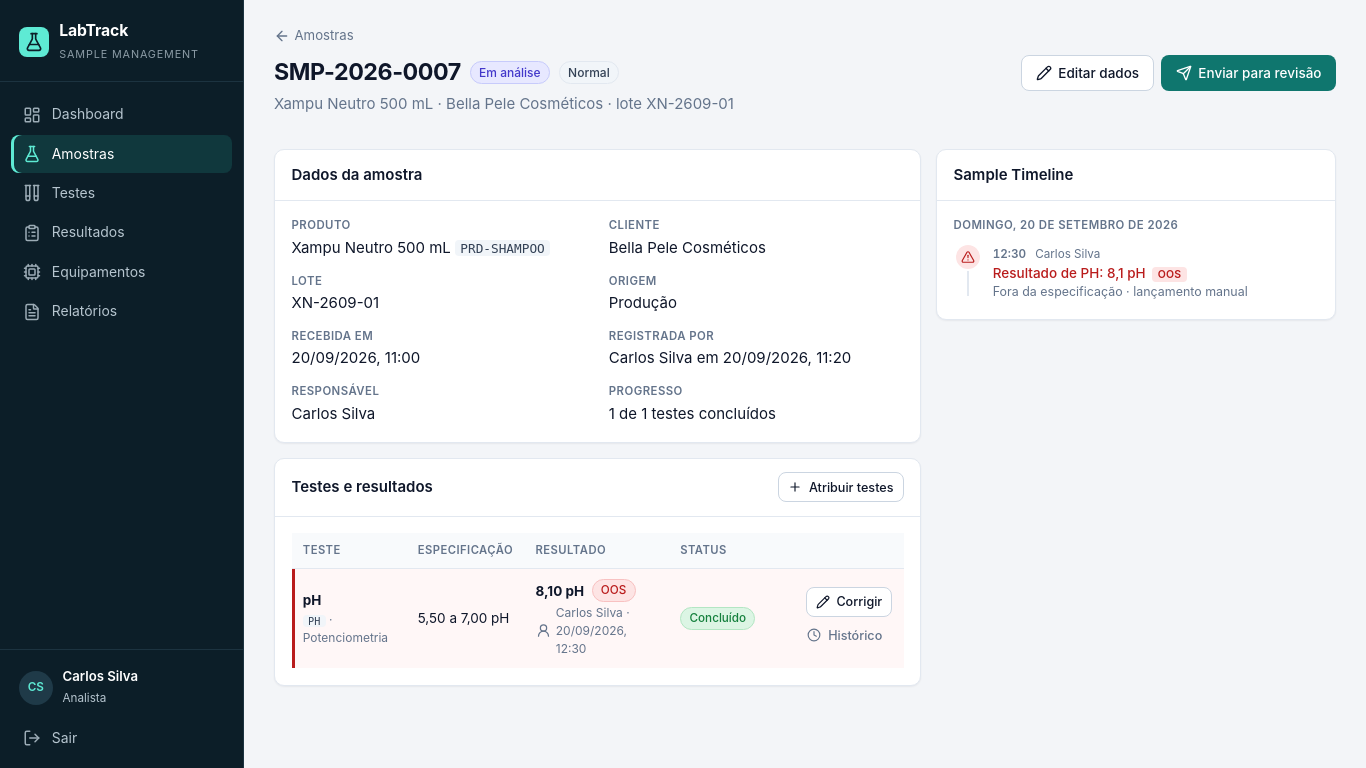
detalhe da amostra › correção exige justificativa
Click the button "Corrigir": (849, 602) [806,587,892,617]
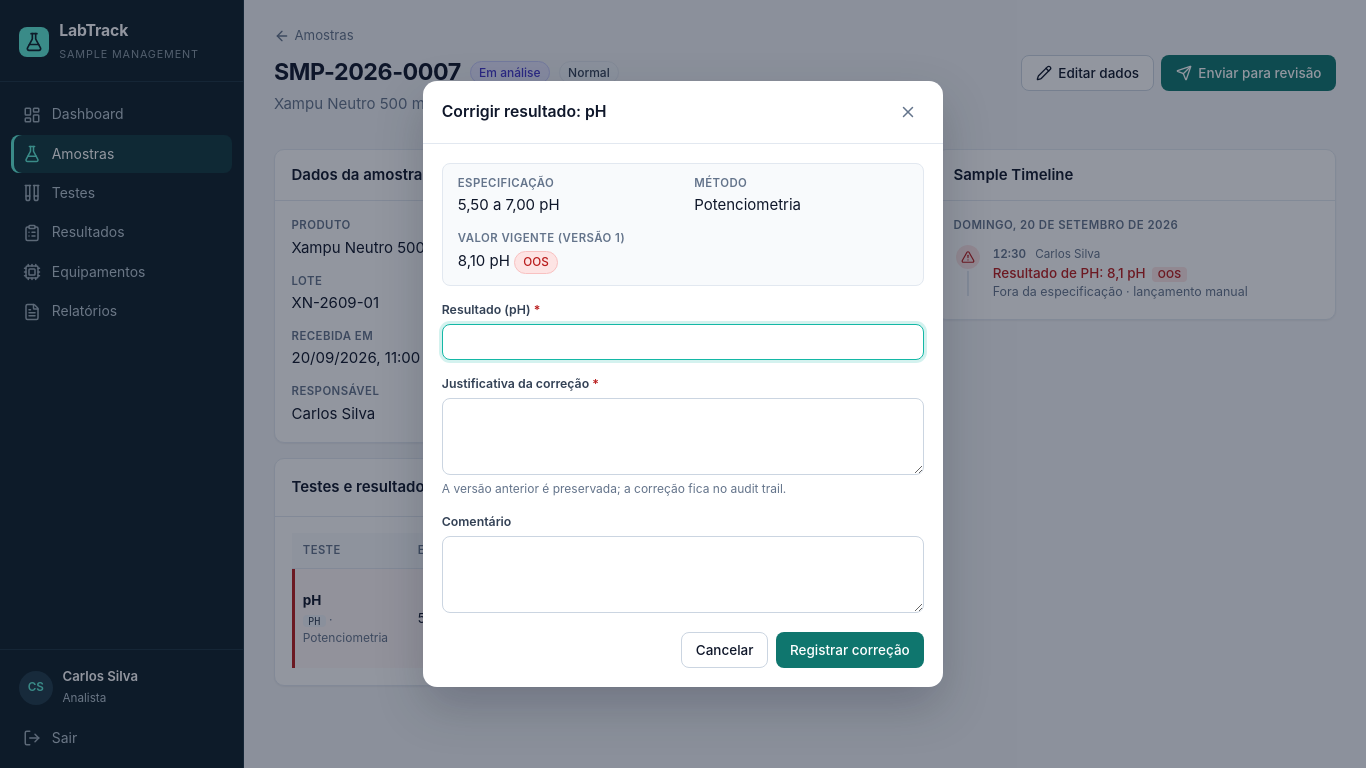
In the field labelled "Resultado (pH) *": (683, 342) [442,324,924,360], type "6,9"
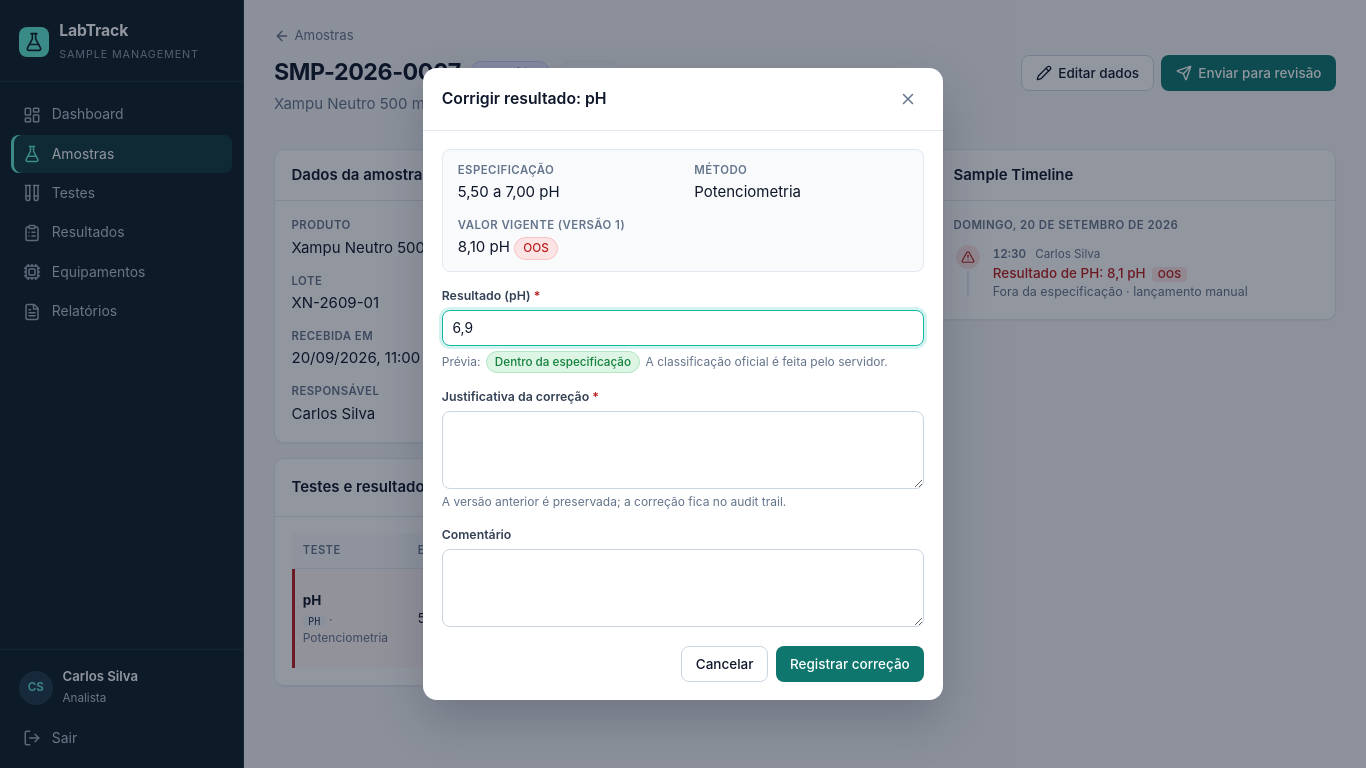
Click the button "Registrar correção": (850, 664) [776,646,924,682]
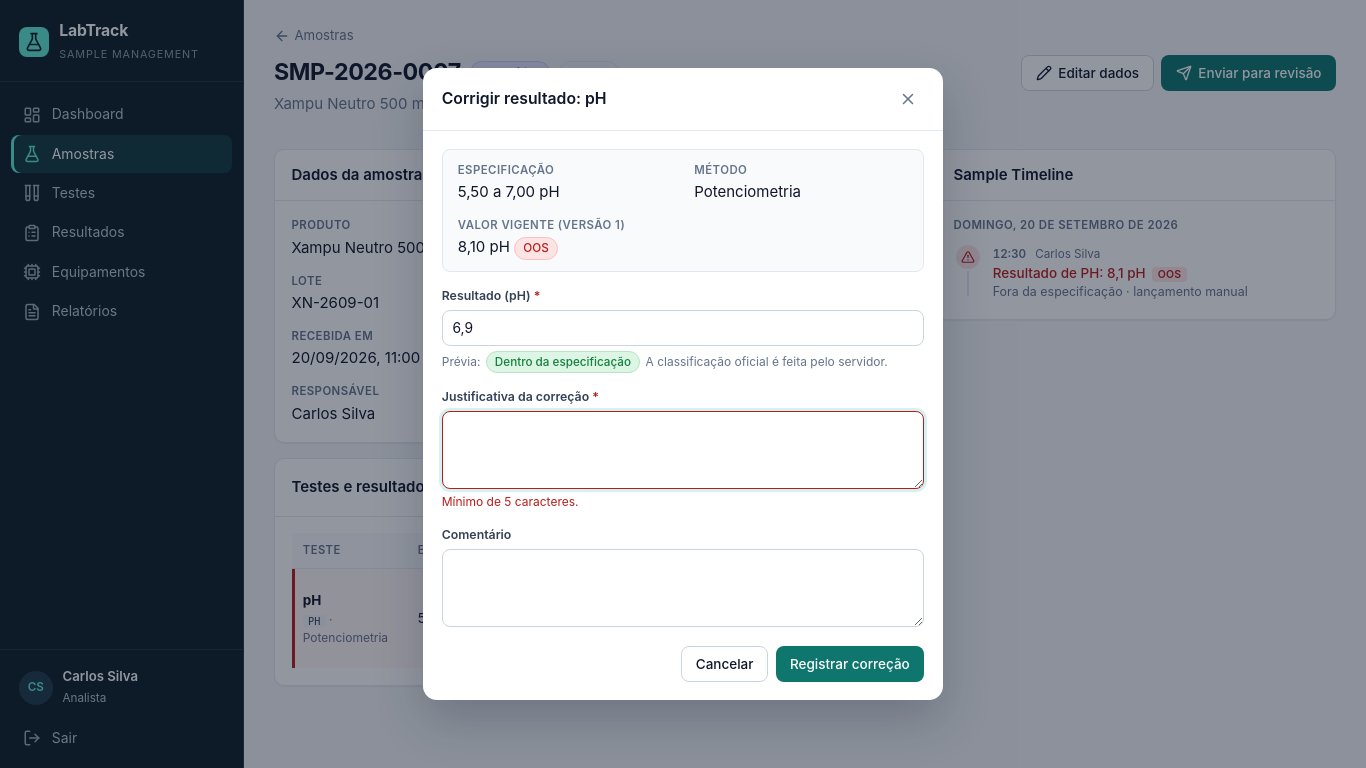
Check: the text "Mínimo de 5 caracteres." is shown, box [442,494,579,510]
